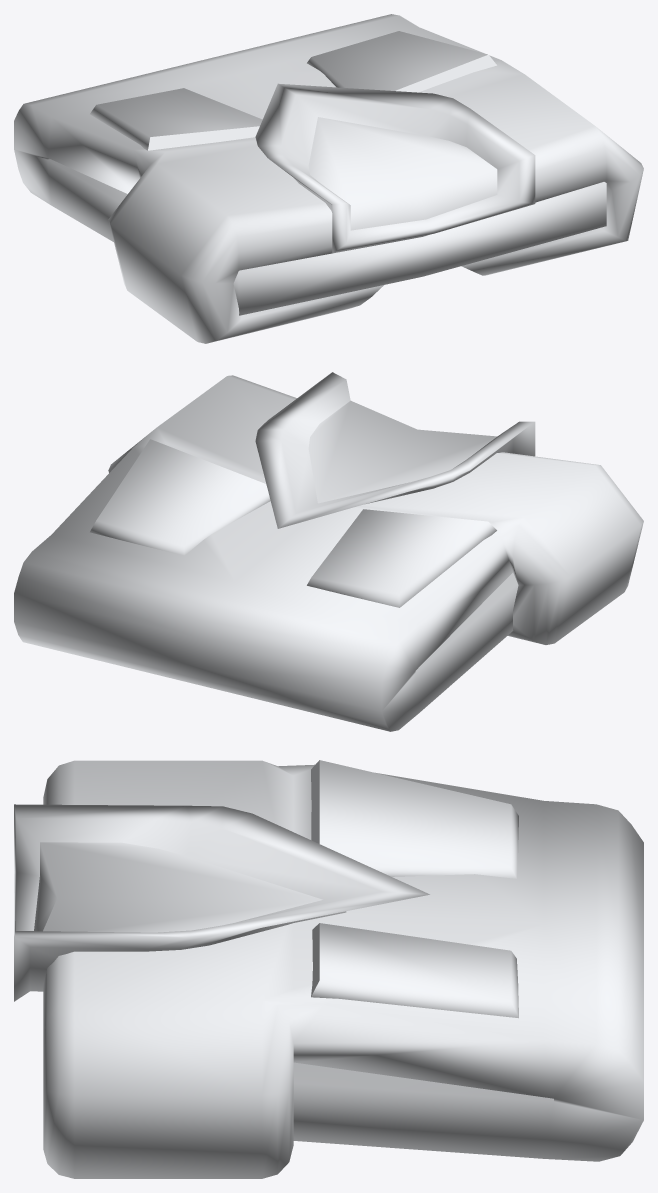
File: ppe_lab_gown_folded.glb
The picture shows the model from 3 angles, top to bottom: view 1: azimuth 30°, elevation 25°; view 2: azimuth 150°, elevation 25°; view 3: azimuth 270°, elevation 25°; orthographic projection. The views are drawn at different scales.
Parts seen in each view (by area): view 1: ppe_lab_gown_folded; view 2: ppe_lab_gown_folded; view 3: ppe_lab_gown_folded.
Part boxes in pixels (x1,y1,x2,y2): ppe_lab_gown_folded: [14, 14, 643, 343]; ppe_lab_gown_folded: [14, 372, 643, 731]; ppe_lab_gown_folded: [14, 760, 643, 1178].
Bounding box in the file's own units: 52.9 × 14.15 × 46.98.
Materials: 1 (1 with a texture image).
